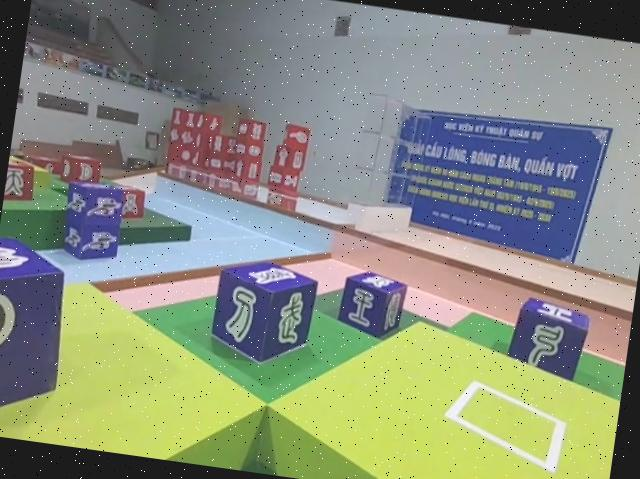R1 Blue: (55, 180, 127, 268)
R2 Fake Blue: (0, 231, 74, 442), (208, 256, 322, 372), (501, 296, 591, 386), (335, 266, 409, 340)
